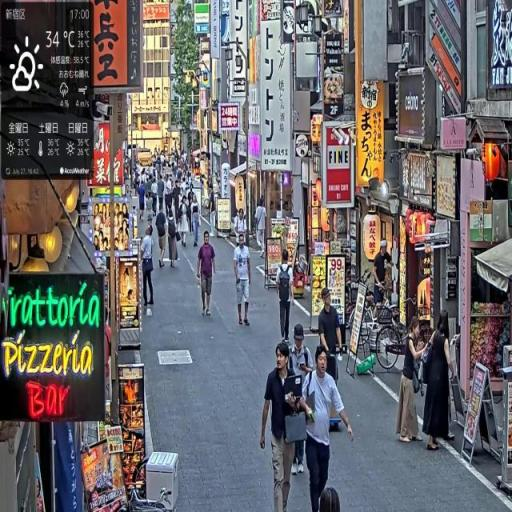person: (292, 342, 355, 512), (260, 337, 312, 512), (419, 310, 454, 455), (288, 319, 315, 482), (396, 314, 428, 447), (276, 248, 296, 345), (234, 233, 254, 328), (197, 230, 218, 319), (141, 226, 156, 311), (168, 207, 181, 270), (156, 202, 168, 269)
